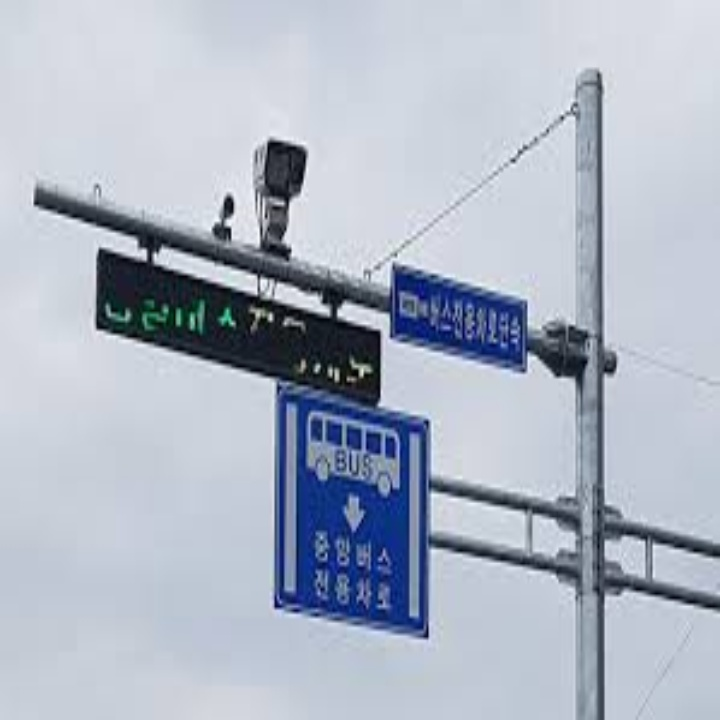bus: (301, 404, 407, 500)
